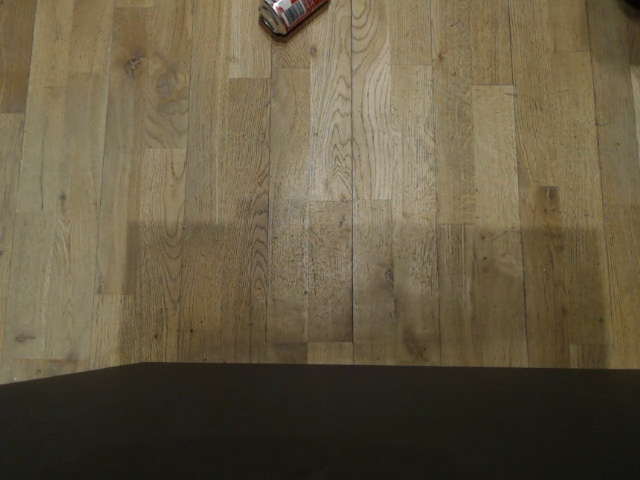cola: (254, 0, 329, 36)
